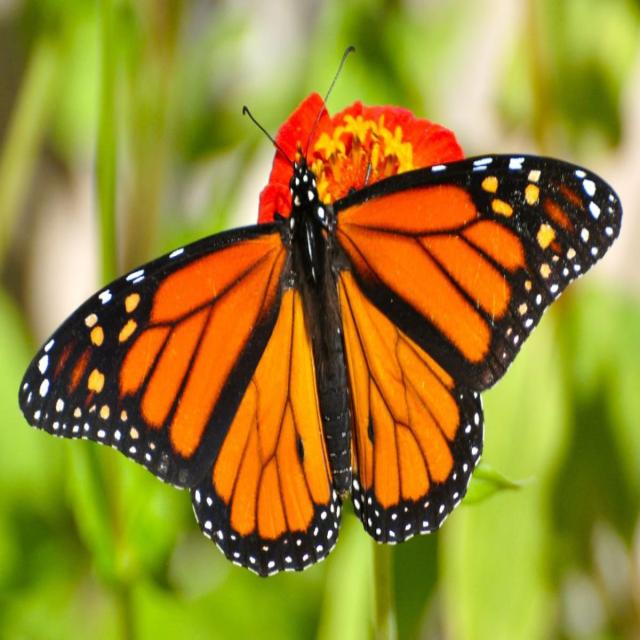butterfly: (35, 109, 569, 575)
